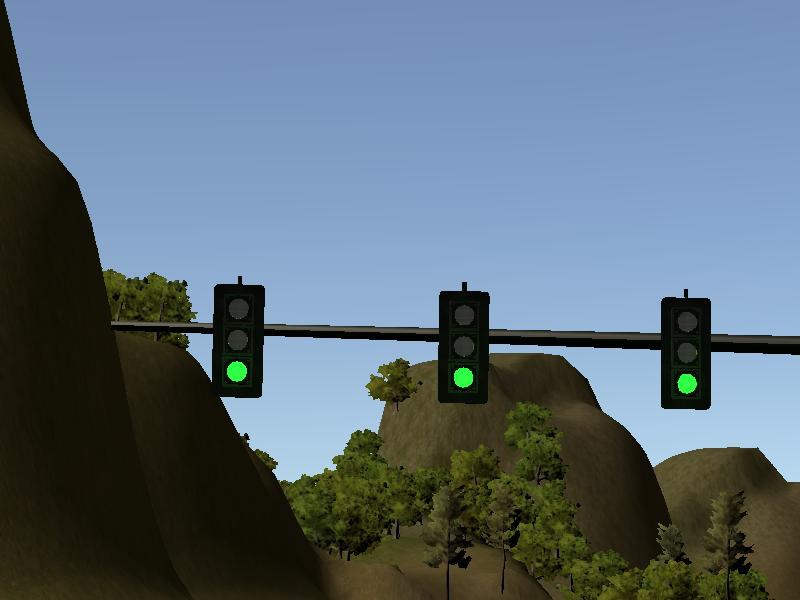Green: (214, 284, 263, 397), (439, 292, 488, 404), (661, 298, 710, 409)
